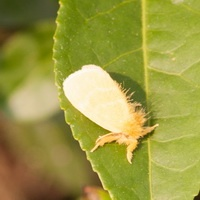insect: (63, 64, 157, 162)
